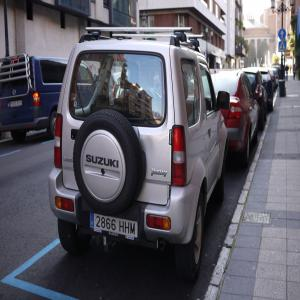Vehicle-registration-plate: (91, 213, 138, 242)
